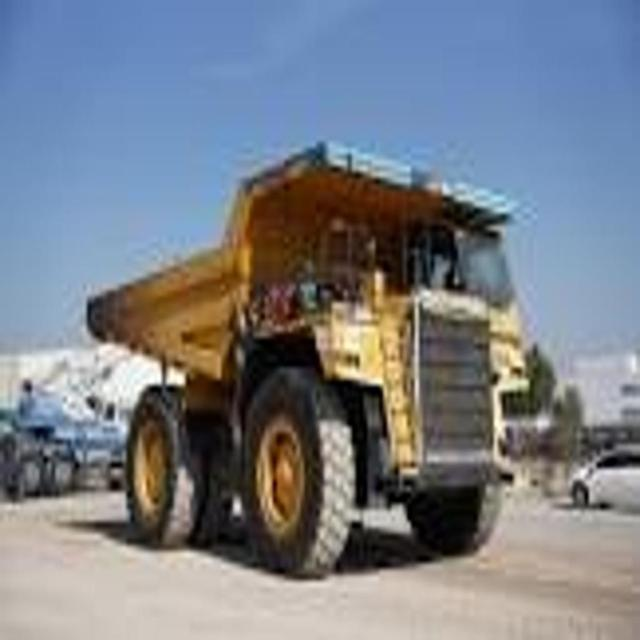dump_truck: (83, 138, 528, 583)
